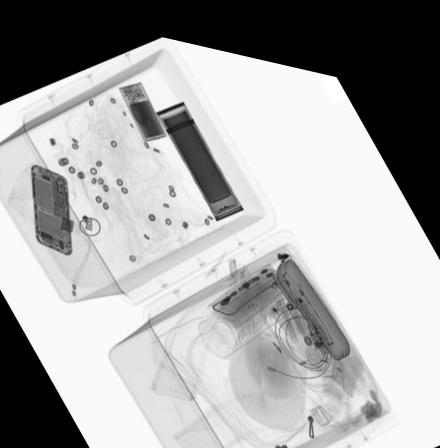Powerbank: (117, 75, 167, 134)
